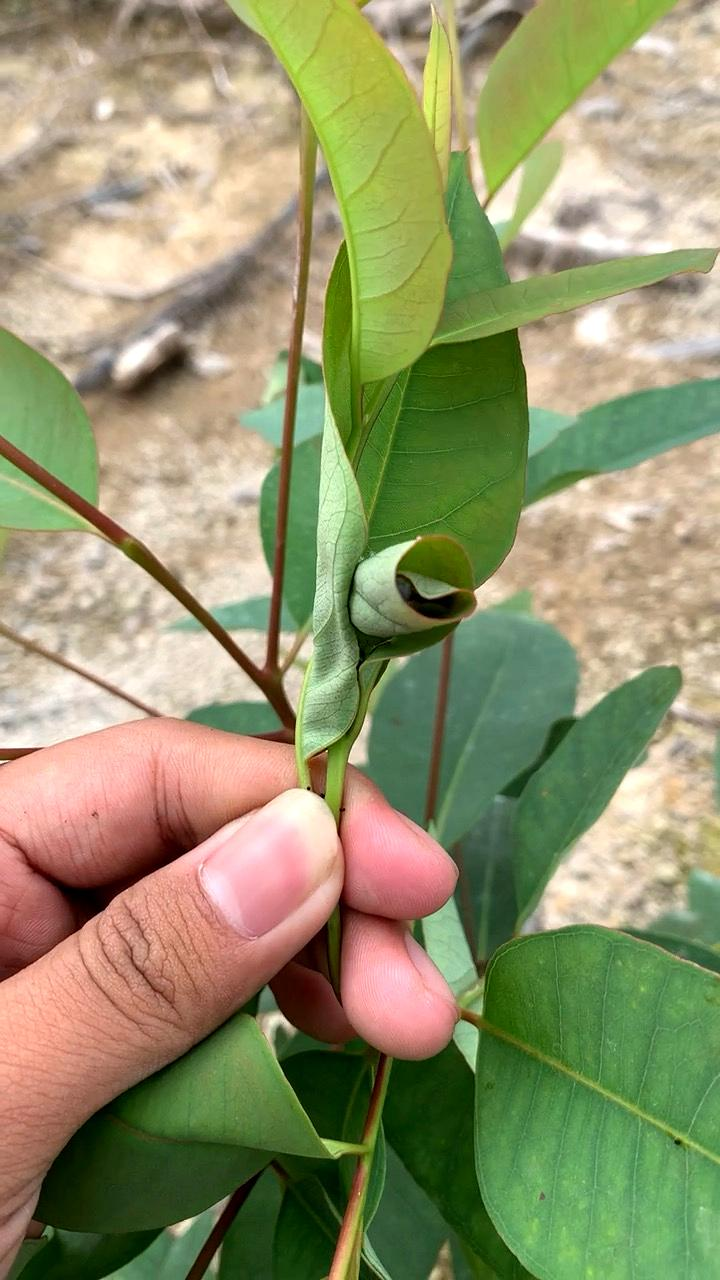Leaf Roller - Leaf: (229, 513, 518, 748)
